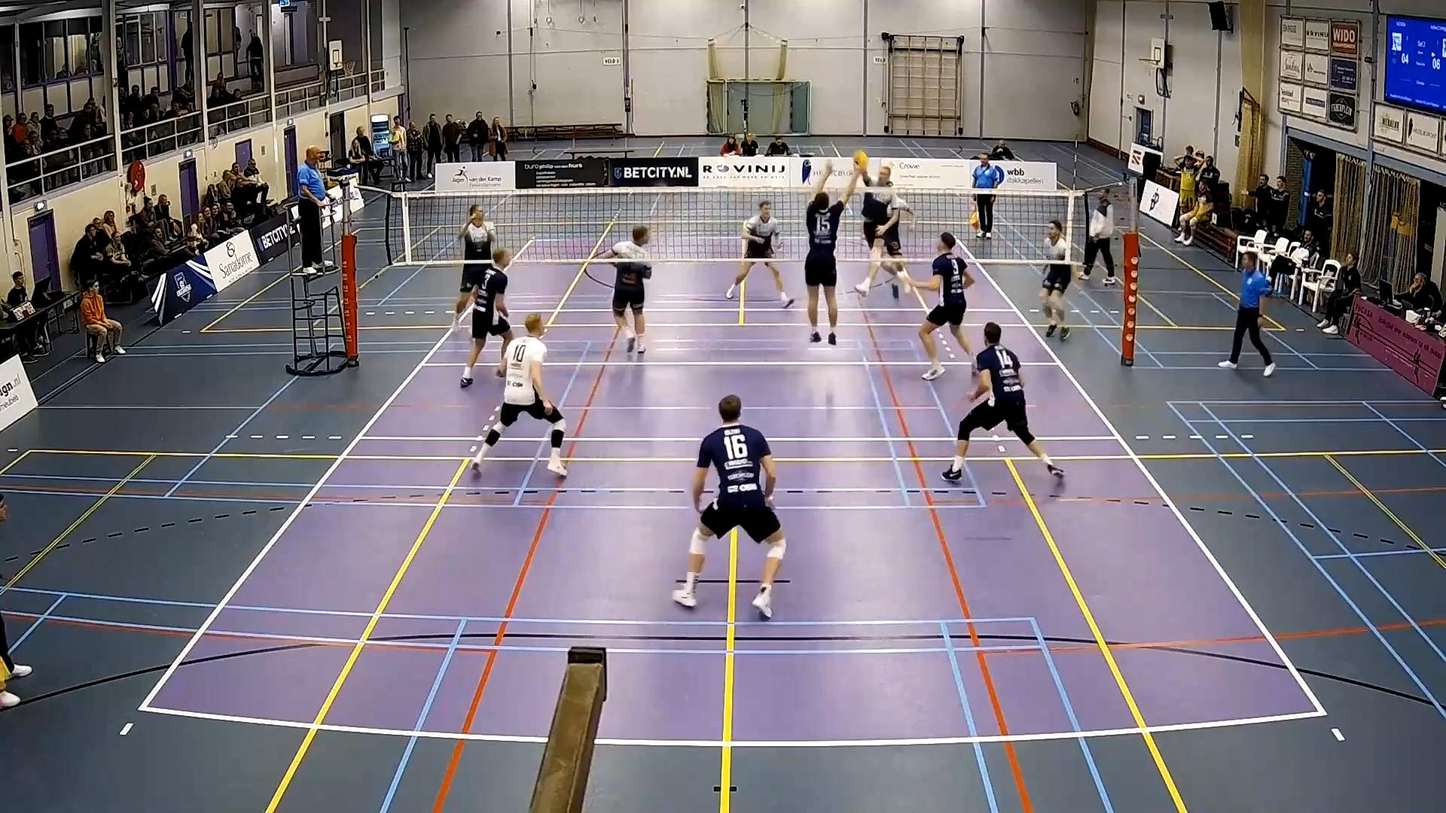Attack: (850, 156, 916, 297)
Block: (793, 163, 857, 351)
Player: (673, 394, 785, 617), (941, 321, 1063, 481), (472, 314, 566, 476), (900, 232, 974, 380), (725, 200, 794, 307), (460, 249, 513, 387), (599, 225, 651, 354), (455, 204, 495, 326), (1040, 220, 1071, 339)
ball: (853, 150, 869, 170)
